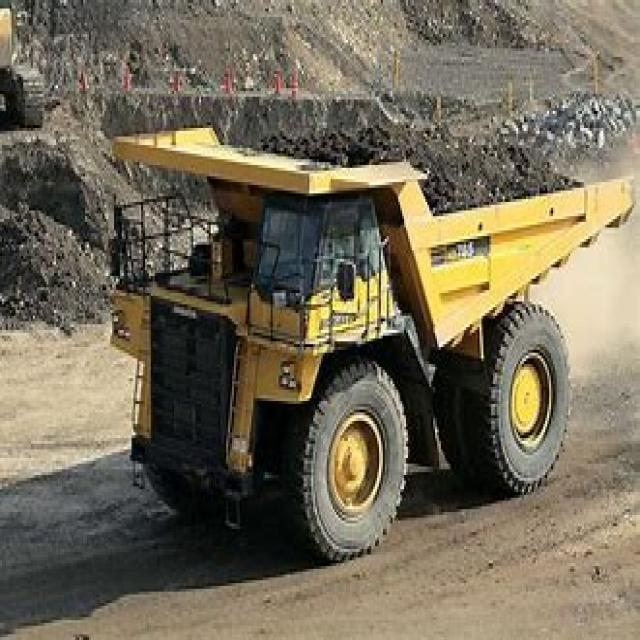dump_truck: (116, 94, 628, 557)
